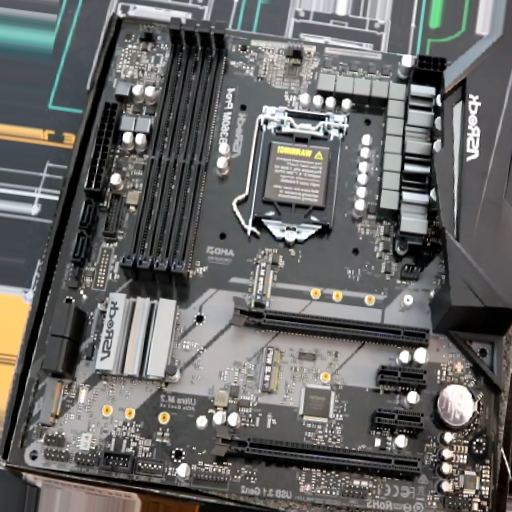CPU: (245, 104, 347, 243)
GPU: (212, 425, 422, 478), (228, 297, 430, 348)
MOTHERBOARD: (22, 20, 502, 512)
RAM: (120, 18, 230, 285)
SSD: (42, 378, 62, 428), (260, 346, 281, 392), (252, 262, 272, 306)
